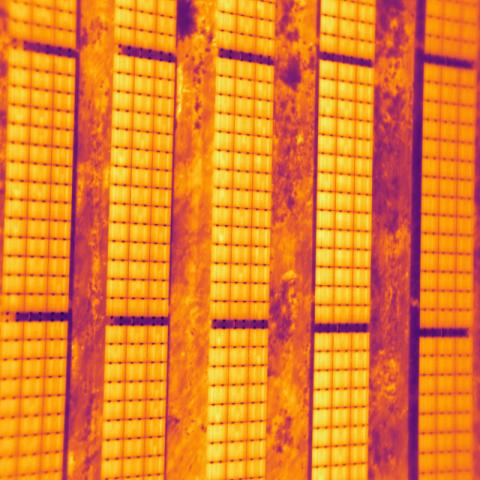fault: (212, 226, 232, 245)
